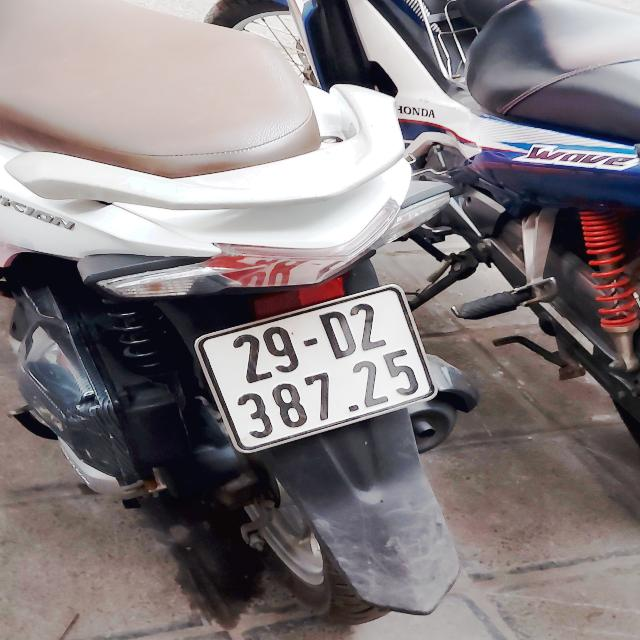license_plate: (206, 286, 444, 450)
